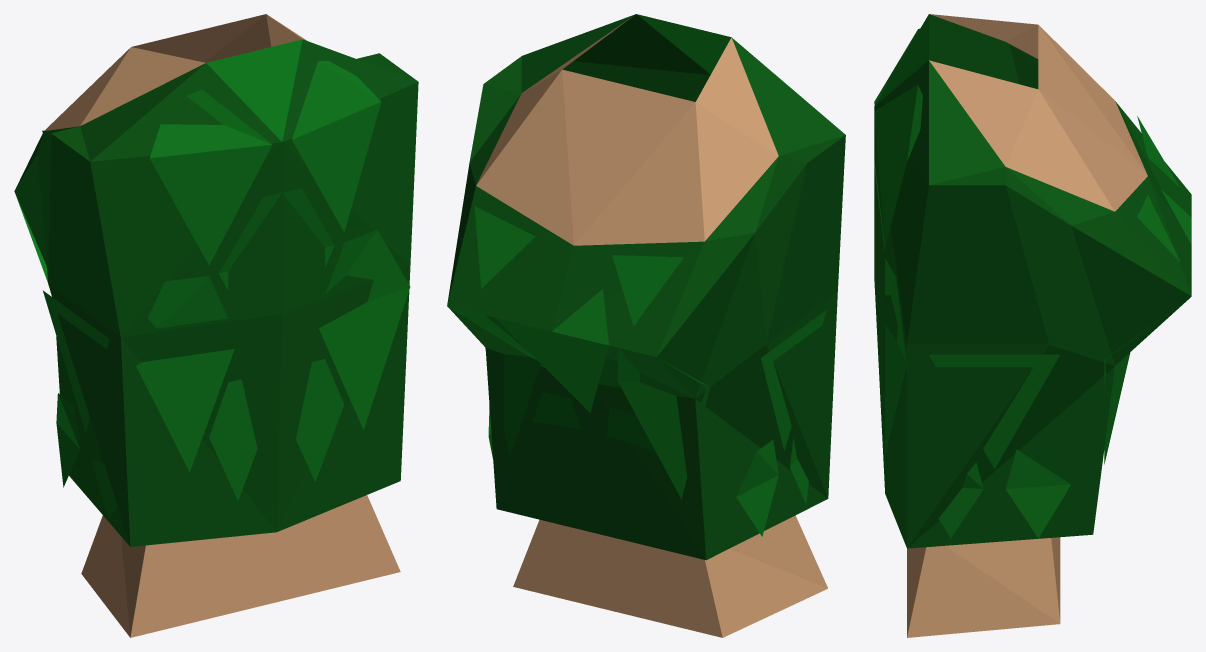
The model's file is itm_model0_red_dragonhide_body.obj.
3 views of the same model, side by side, from view 1: azimuth 30°, elevation 25°; view 2: azimuth 150°, elevation 25°; view 3: azimuth 270°, elevation 25° (orthographic).
Bounding box in the file's own units: 0.2656 × 0.4219 × 0.2266.
